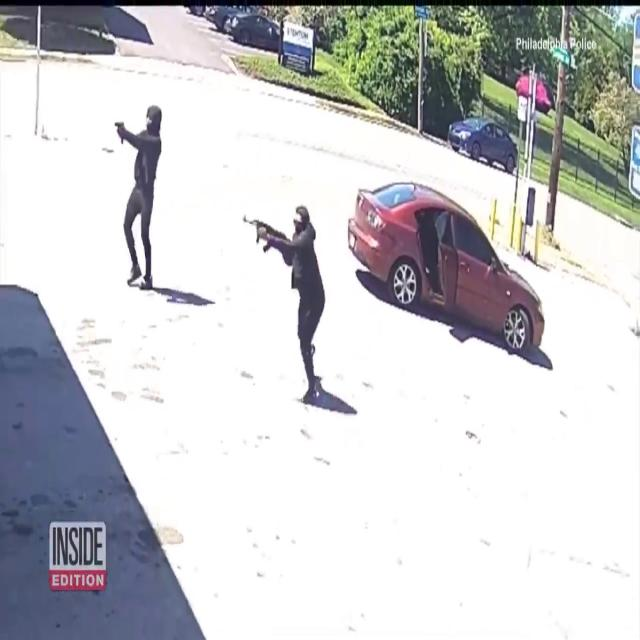penembakan: (240, 189, 330, 418), (111, 98, 167, 310)
